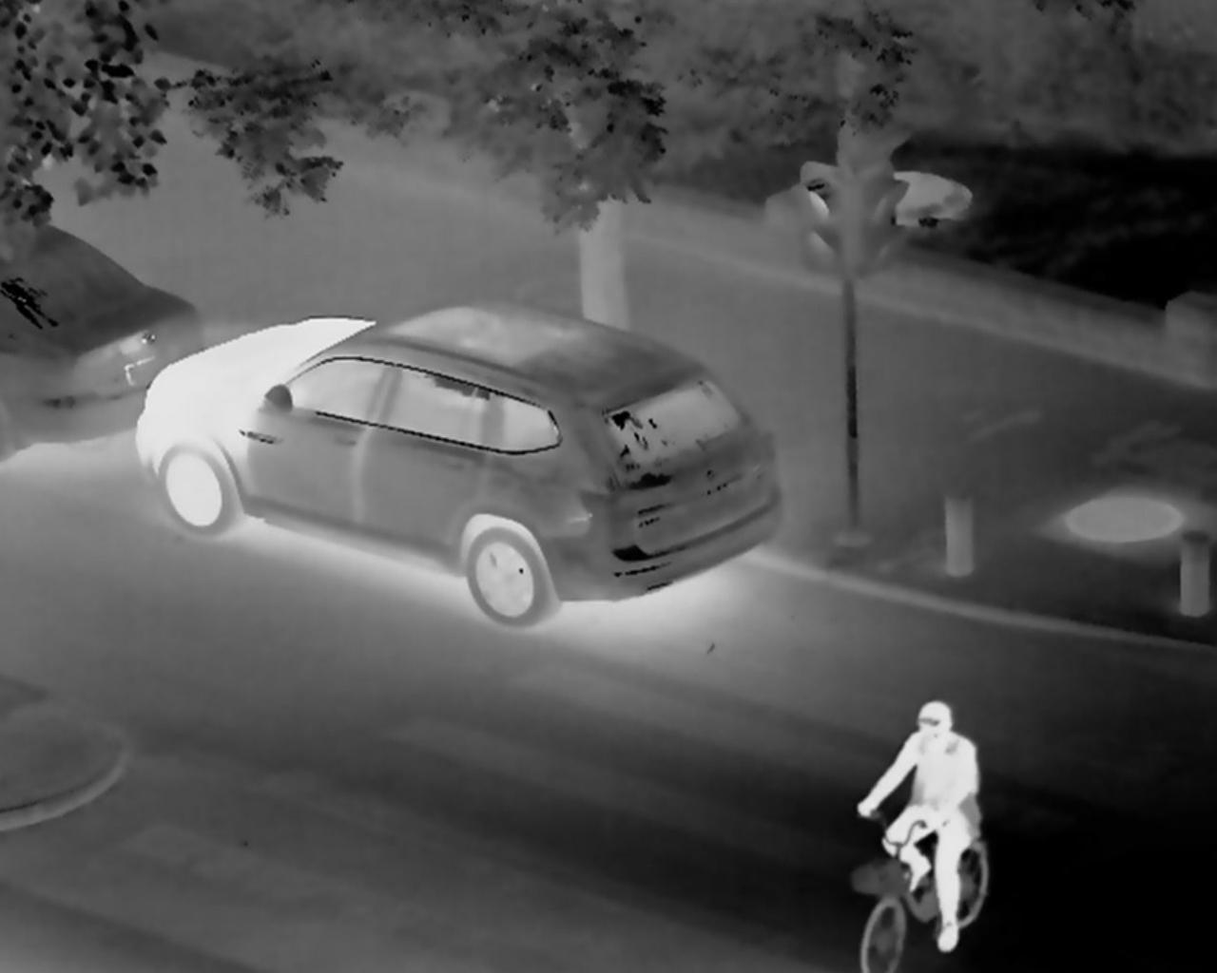person: (849, 680, 1015, 957)
